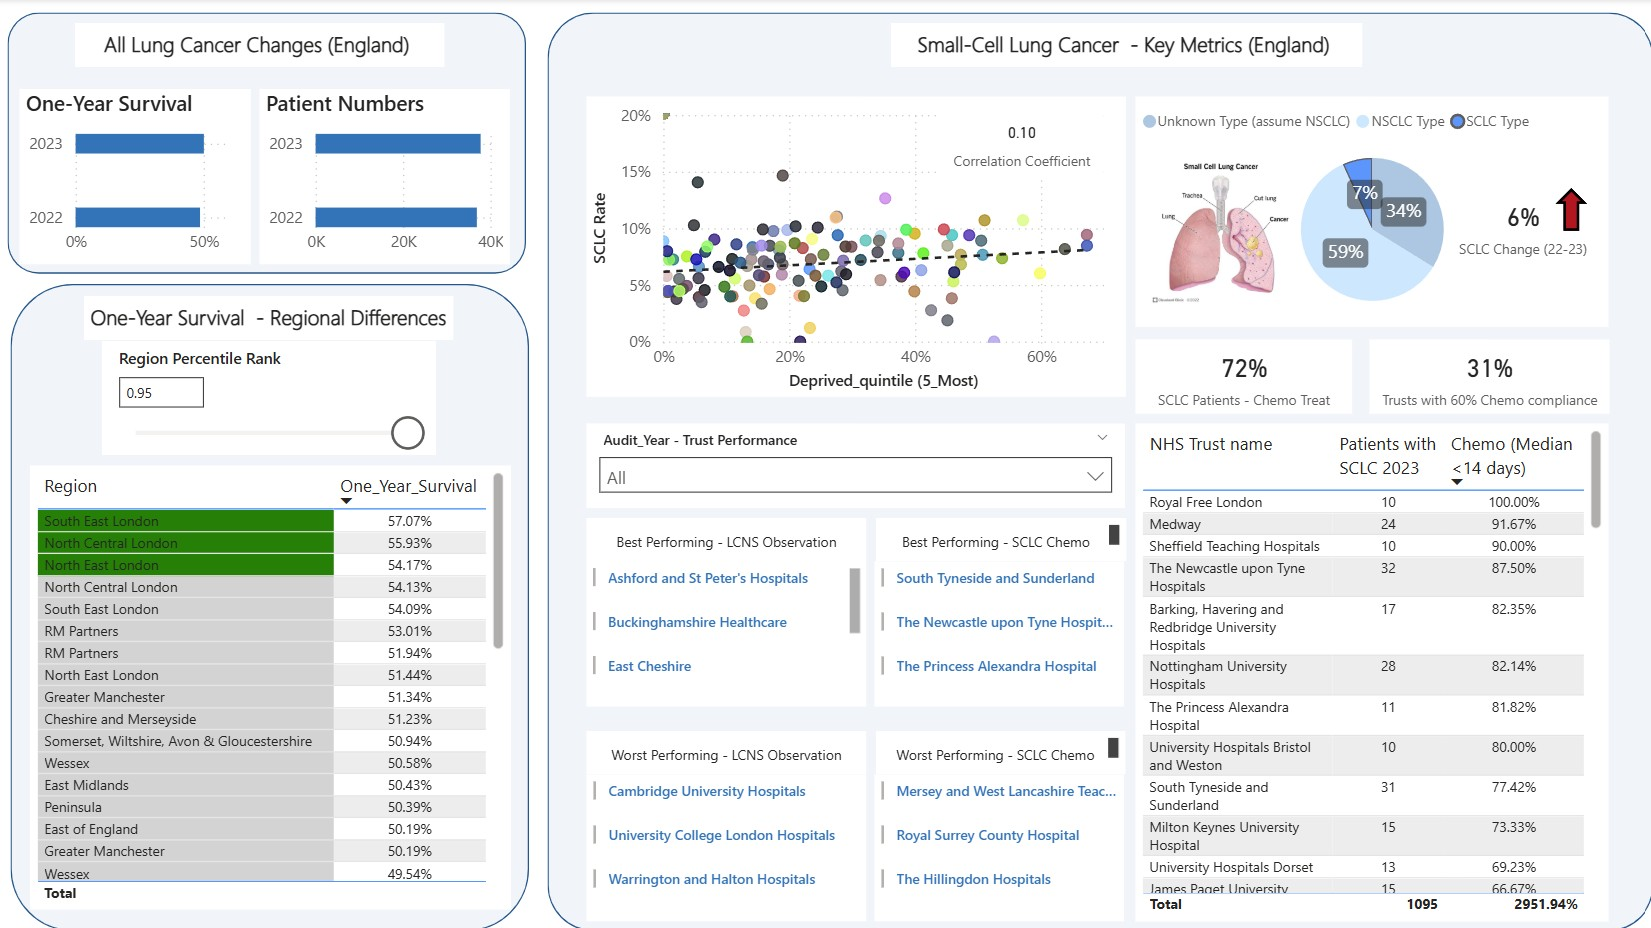

The dashboard page shown, as its layout file describes it:
{"tool":"powerbi","page":{"name":"Report","canvas":[1280,720],"ordinal":0},"visuals":[{"type":"shape","box":[425.1,10.1,855.2,709.6],"z":1000},{"type":"shape","box":[10.8,219.7,400.6,500],"z":2000},{"type":"shape","box":[8.6,10.1,400.6,201.7],"z":3000},{"type":"barChart","title":"One-Year Survival","fields":{"Category":["Survival England Final.Audit_Year"],"Y":["Survival England Final.Adjusted_One_Year_Survival"]},"box":[17.3,69.2,178.7,135.4],"z":4000},{"type":"tableEx","fields":{"Values":["Survival England Final.Region","Survival England Final.Adjusted_One_Year_Survival"]},"box":[25.2,360.2,371,342.9],"z":5000},{"type":"barChart","title":"Patient Numbers","fields":{"Category":["Patient Chars England Final.Audit_Year"],"Y":["Patient Chars England Final.Patients"]},"box":[203.2,69.2,193.1,135.4],"z":6000},{"type":"multiRowCard","fields":{"Values":["DimRegions.NHS_Trust_Name"]},"box":[455.3,434.4,216.1,111.7],"z":7000},{"type":"multiRowCard","fields":{"Values":["DimRegions.NHS_Trust_Name"]},"box":[455.3,598.7,216.1,113.1],"z":8000},{"type":"slicer","fields":{"Values":["Indicator England Final.Audit_Year"]},"box":[455.3,327.8,415.7,65.6],"z":9000},{"type":"textbox","box":[455.3,401.3,216.1,33.9],"z":10000},{"type":"textbox","box":[455.3,565.6,216.1,33.1],"z":11000},{"type":"slicer","fields":{"Values":["Percentile Rank.Percentile Rank"]},"box":[80.7,264.4,257.2,87.2],"z":12000},{"type":"tableEx","fields":{"Values":["Waiting times England25.NHS_Trust_name","Waiting times England25.No. of patients_4_SCLC","Waiting times England25.Proportion_<14 days"]},"box":[879.7,327.8,365.3,384],"z":13000},{"type":"card","fields":{"Values":["Waiting times England25.CountChemo"]},"box":[1059.8,263,185.2,57.6],"z":14000},{"type":"card","fields":{"Values":["Indicator England Final.AdjustedSCLCwChemo"]},"box":[879.7,263,167.1,57.6],"z":15000},{"type":"multiRowCard","fields":{"Values":["DimRegions.NHS_Trust_Name"]},"box":[677.9,434.4,192.4,111.7],"z":16000},{"type":"multiRowCard","fields":{"Values":["DimRegions.NHS_Trust_Name"]},"box":[677.9,598.7,192.4,113.1],"z":17000},{"type":"textbox","box":[678.7,401.3,193.1,33.1],"z":18000},{"type":"textbox","box":[678.7,565.6,192.4,33.1],"z":19000},{"type":"scatterChart","title":"SCLC Rate by Most Deprived Quintile","fields":{"X":["Patient Chars England Final.Deprived_quintile (5_Most)"],"Y":["Patient Chars England Final.Small_Cell"],"Series":["Patient Chars England Final.NHS_Trust_Name"]},"box":[455.3,75.6,416.4,232],"z":20000},{"type":"card","fields":{"Values":["Patient Chars England Final.Sum of Deprived_quintile (5_Most) and Sum of Small_Cell correlation for NHS_Trust_Name 2"]},"box":[727.7,85.7,127.5,51.2],"z":21000},{"type":"pieChart","fields":{"Y":["Patient Chars England Final.Unknown(assume NSCLC)","Patient Chars England Final.Non-small_cell_(NSCLC)_2","Patient Chars England Final.Small_Cell"]},"box":[879.7,75.6,365.3,178],"z":22000},{"type":"card","fields":{"Values":["Patient Chars England Final.SCLCchange"]},"box":[1122,145.8,113.8,58.4],"z":23000},{"type":"shape","box":[1204.1,145.8,24.5,33.1],"z":24000},{"type":"textbox","box":[690.2,18,363.8,33.9],"z":25000},{"type":"textbox","box":[67,229.1,285.3,33.9],"z":26000},{"type":"textbox","box":[60.5,18,285.3,33.9],"z":27000},{"type":"image","box":[885.4,116.7,118.9,123.2],"z":28000}]}

Visuals, with their boxes in screenshot pixels (x1, y1, x2, y2), scaled from the page's 1280x720 canvas onto the 1651x928 screenshot:
shape: pyautogui.locateOnScreen(548, 13, 1650, 927)
shape: pyautogui.locateOnScreen(14, 283, 531, 927)
shape: pyautogui.locateOnScreen(11, 13, 528, 273)
"One-Year Survival" barChart: pyautogui.locateOnScreen(22, 89, 253, 264)
tableEx - Survival England Final.Region x Survival England Final.Adjusted_One_Year_Survival: pyautogui.locateOnScreen(33, 464, 511, 906)
"Patient Numbers" barChart: pyautogui.locateOnScreen(262, 89, 511, 264)
multiRowCard - DimRegions.NHS_Trust_Name: pyautogui.locateOnScreen(587, 560, 866, 704)
multiRowCard - DimRegions.NHS_Trust_Name: pyautogui.locateOnScreen(587, 772, 866, 917)
slicer - Indicator England Final.Audit_Year: pyautogui.locateOnScreen(587, 422, 1123, 507)
textbox: pyautogui.locateOnScreen(587, 517, 866, 561)
textbox: pyautogui.locateOnScreen(587, 729, 866, 772)
slicer - Percentile Rank.Percentile Rank: pyautogui.locateOnScreen(104, 341, 436, 453)
tableEx - Waiting times England25.NHS_Trust_name x Waiting times England25.No. of patients_4_SCLC: pyautogui.locateOnScreen(1135, 422, 1606, 917)
card - Waiting times England25.CountChemo: pyautogui.locateOnScreen(1367, 339, 1606, 413)
card - Indicator England Final.AdjustedSCLCwChemo: pyautogui.locateOnScreen(1135, 339, 1350, 413)
multiRowCard - DimRegions.NHS_Trust_Name: pyautogui.locateOnScreen(874, 560, 1123, 704)
multiRowCard - DimRegions.NHS_Trust_Name: pyautogui.locateOnScreen(874, 772, 1123, 917)
textbox: pyautogui.locateOnScreen(875, 517, 1124, 560)
textbox: pyautogui.locateOnScreen(875, 729, 1124, 772)
"SCLC Rate by Most Deprived Quintile" scatterChart: pyautogui.locateOnScreen(587, 97, 1124, 396)
card - Patient Chars England Final.Sum of Deprived_quintile (5_Most) and Sum of Small_Cell correlation for NHS_Trust_Name 2: pyautogui.locateOnScreen(939, 110, 1103, 176)
pieChart - Patient Chars England Final.Unknown(assume NSCLC) x Patient Chars England Final.Non-small_cell_(NSCLC)_2: pyautogui.locateOnScreen(1135, 97, 1606, 327)
card - Patient Chars England Final.SCLCchange: pyautogui.locateOnScreen(1447, 188, 1594, 263)
shape: pyautogui.locateOnScreen(1553, 188, 1585, 231)
textbox: pyautogui.locateOnScreen(890, 23, 1359, 67)
textbox: pyautogui.locateOnScreen(86, 295, 454, 339)
textbox: pyautogui.locateOnScreen(78, 23, 446, 67)
image: pyautogui.locateOnScreen(1142, 150, 1295, 309)
